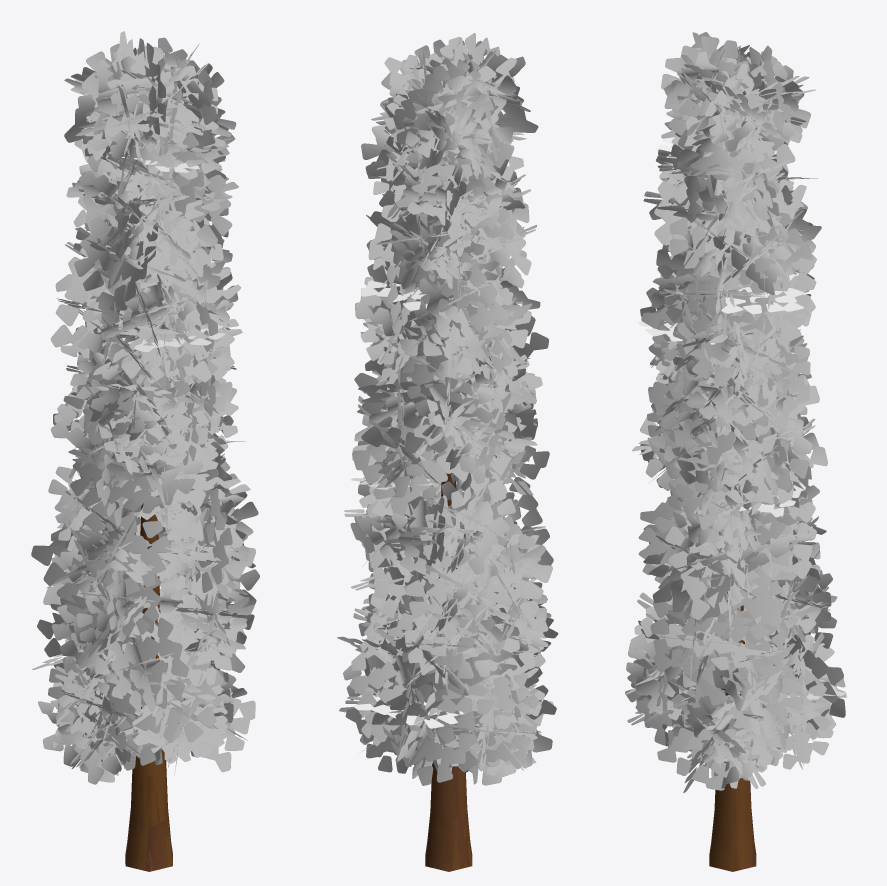
Rendered from STColumnar3.glb.
3 renders of one model, left to right at view 1: azimuth 30°, elevation 25°; view 2: azimuth 150°, elevation 25°; view 3: azimuth 270°, elevation 25°, orthographic.
Visible parts, largest first — view 1: VertTree3Leaves; view 2: VertTree3Leaves; view 3: VertTree3Leaves.
Part boxes in pixels (bbox=[...]): VertTree3Leaves: bbox=[31, 31, 259, 871]; VertTree3Leaves: bbox=[337, 33, 558, 871]; VertTree3Leaves: bbox=[625, 32, 846, 871].
Size of the model in its own units: 4.25 by 14.51 by 4.19.
Materials: 2 (2 with a texture image).
